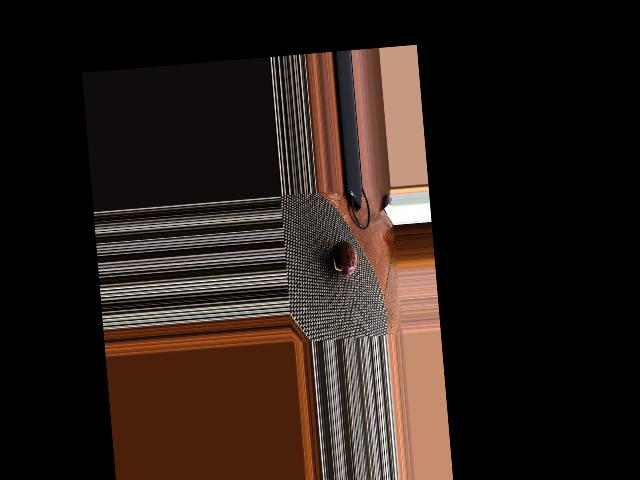beet: (329, 239, 358, 276)
